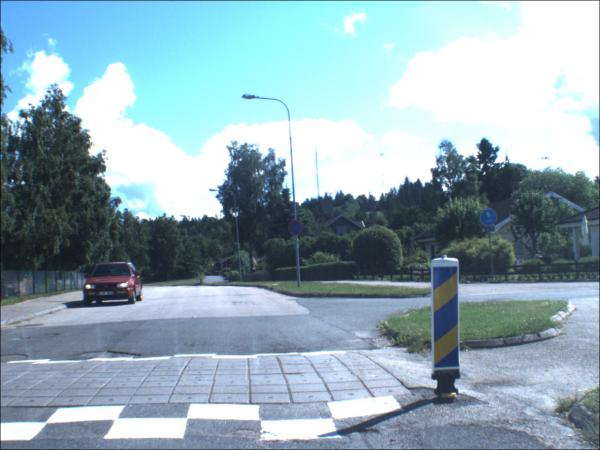NO_PARKING: (289, 222, 306, 238)
